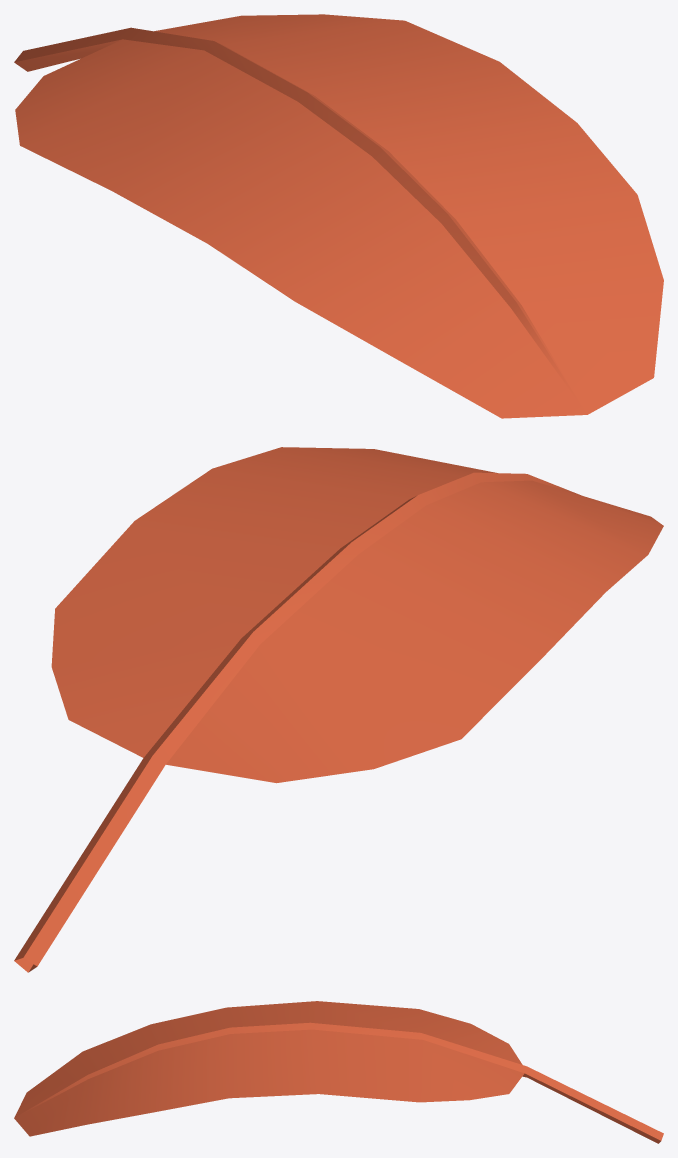
File: MESH_Beach_Props_Leaf002.fbx
The picture shows the model from 3 angles, top to bottom: view 1: azimuth 30°, elevation 25°; view 2: azimuth 150°, elevation 25°; view 3: azimuth 270°, elevation 25°; orthographic projection. The views are drawn at different scales.
Parts seen in each view (by area): view 1: MESH_Beach_Props_Leaf002; view 2: MESH_Beach_Props_Leaf002; view 3: MESH_Beach_Props_Leaf002.
Part boxes in pixels (x1,y1,x2,y2): MESH_Beach_Props_Leaf002: [14, 14, 663, 418]; MESH_Beach_Props_Leaf002: [14, 447, 663, 972]; MESH_Beach_Props_Leaf002: [14, 1001, 663, 1143].
Size of the model in its own units: 2.26 by 1.08 by 5.4.
